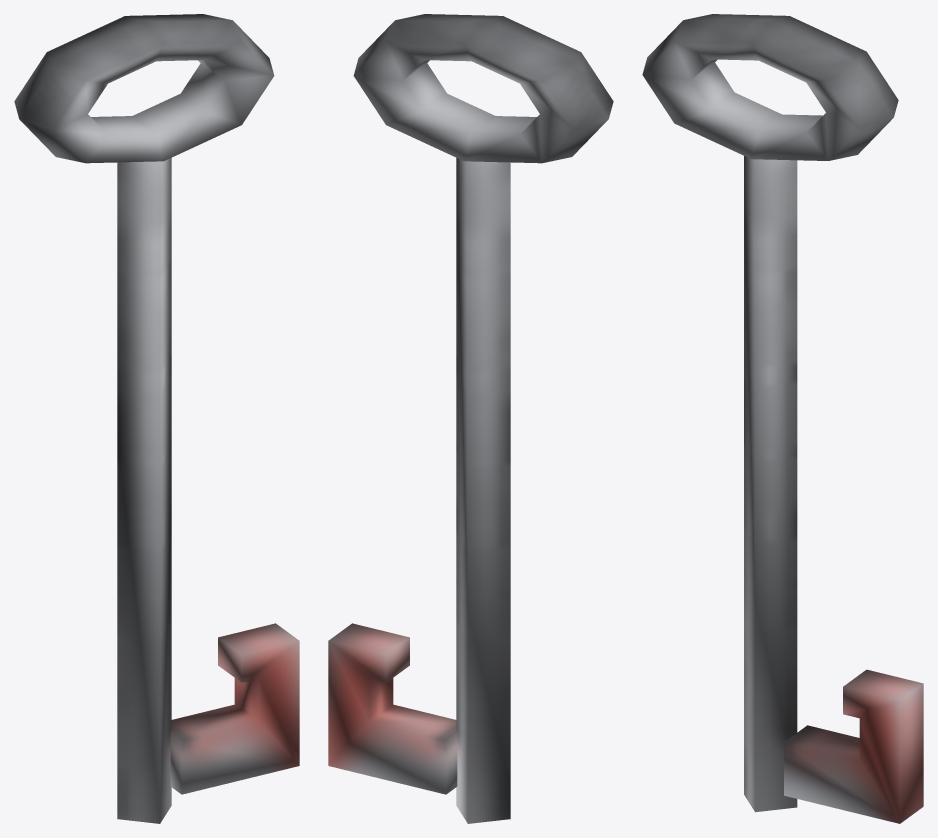
Rendered from RommBKey.glb.
The picture shows the model from 3 angles, left to right: view 1: azimuth 30°, elevation 25°; view 2: azimuth 150°, elevation 25°; view 3: azimuth 330°, elevation 25°; orthographic projection.
Parts seen in each view (by area): view 1: Room B Key.001; view 2: Room B Key.001; view 3: Room B Key.001.
Part boxes in pixels (x1,y1,x2,y2): Room B Key.001: (14, 14, 299, 823); Room B Key.001: (328, 14, 613, 823); Room B Key.001: (642, 14, 923, 823).
Bounding box in the file's own units: 0.1837 × 0.5164 × 0.046.
Materials: 1 (1 with a texture image).
